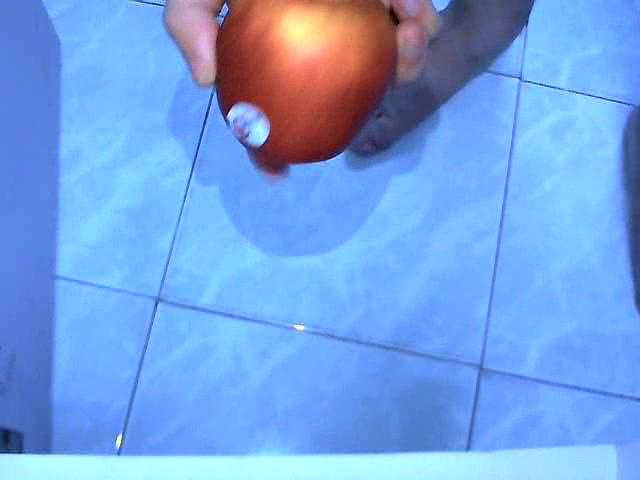apple: (214, 0, 399, 167)
